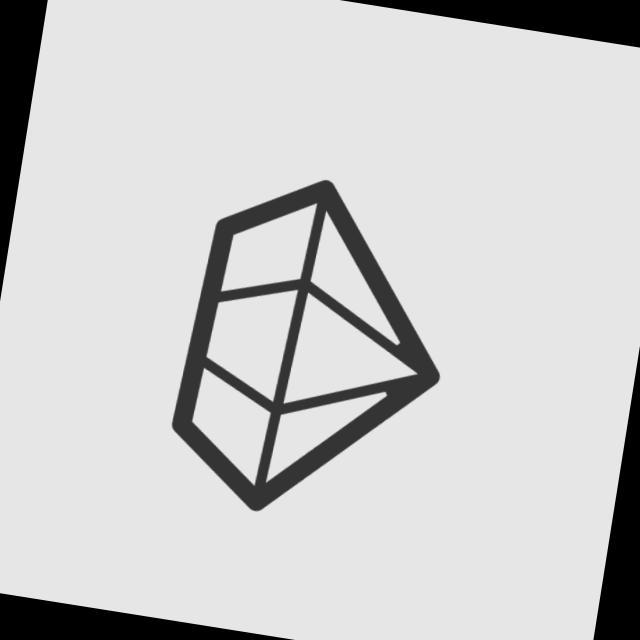diamond: (155, 153, 476, 543)
